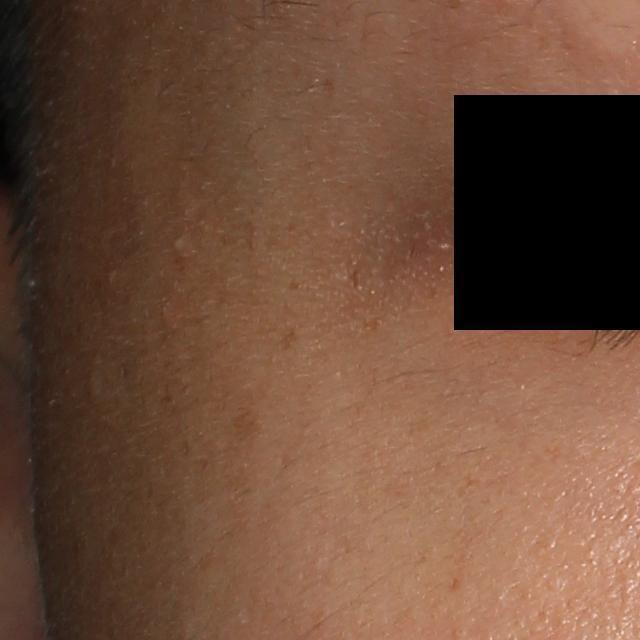comedo: (167, 233, 185, 260)
melasma: (228, 403, 268, 447), (275, 325, 302, 354)
